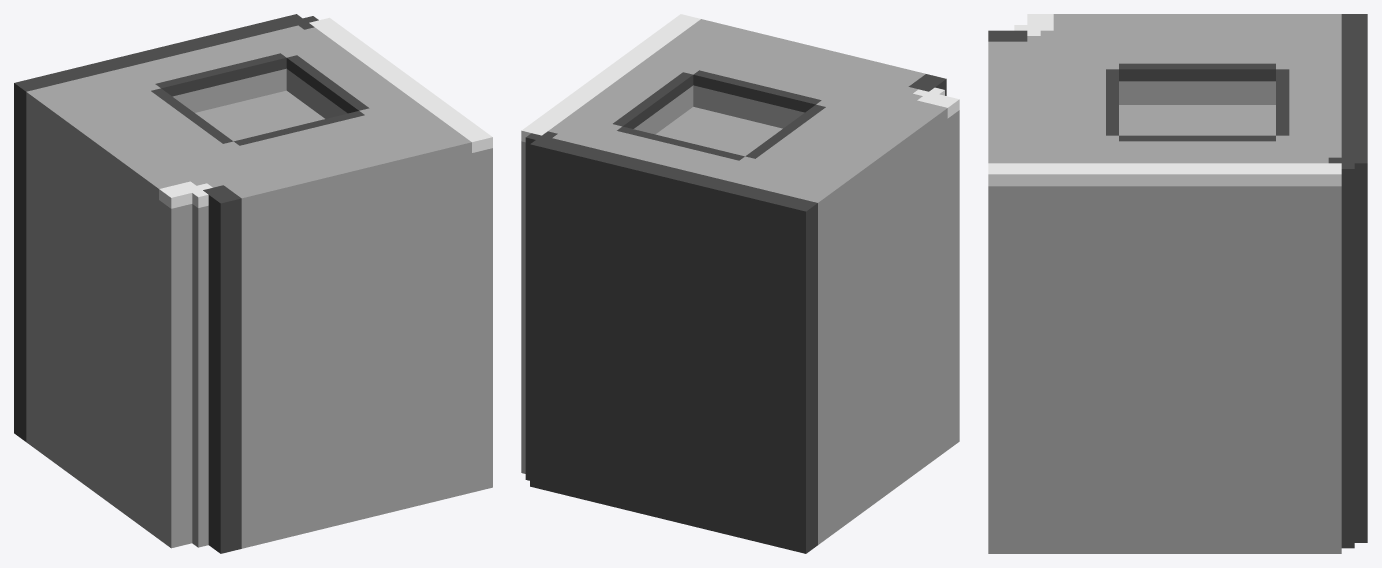
The model's file is CornerNE.obj.
3 renders of one model, left to right at view 1: azimuth 30°, elevation 25°; view 2: azimuth 150°, elevation 25°; view 3: azimuth 270°, elevation 25°, orthographic. The views are drawn at different scales.
Size of the model in its own units: 29 by 32 by 29.
Materials: 1 (1 with a texture image).
